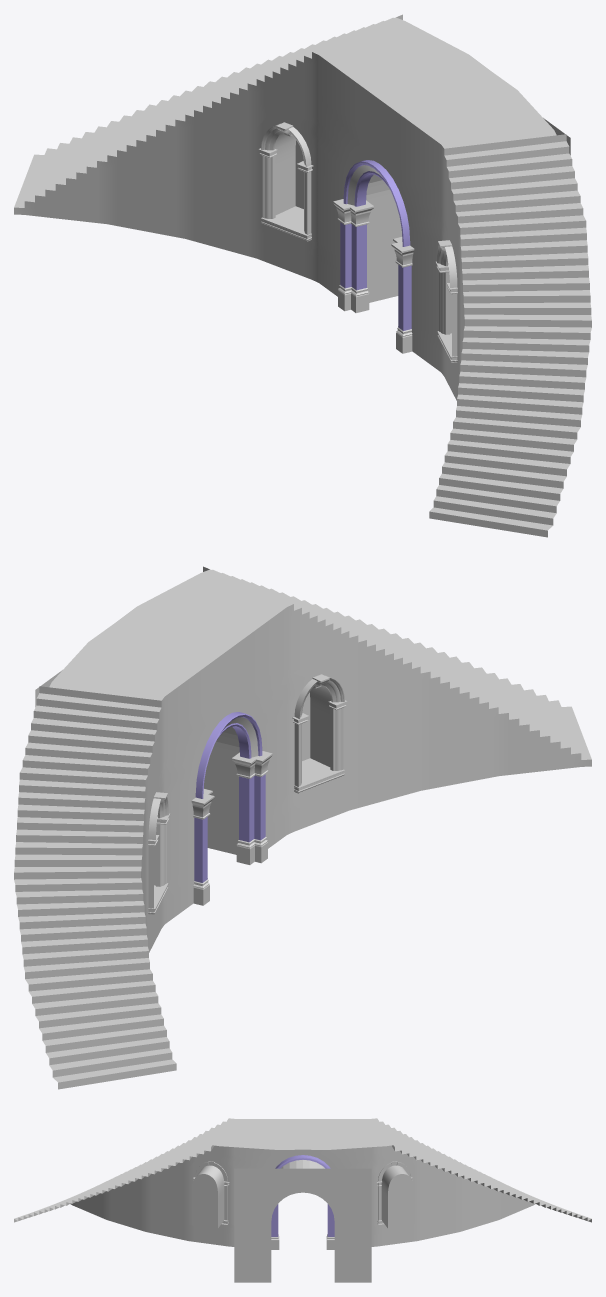
File: FR Stairs Main.fbx
3 views of the same model, one above another, from view 1: azimuth 30°, elevation 25°; view 2: azimuth 150°, elevation 25°; view 3: azimuth 270°, elevation 25° (orthographic). The views are drawn at different scales.
Visible parts, largest first — view 1: Main Staircase, Main Staircase Arch, Staircase display arch; view 2: Main Staircase, Main Staircase Arch, Staircase display arch; view 3: Main Staircase, Main Staircase Arch, Staircase display arch.
Boxes of the visible parts, x1=… form: Main Staircase: x1=14, y1=14, x2=591, y2=537; Main Staircase Arch: x1=333, y1=160, x2=414, y2=353; Staircase display arch: x1=258, y1=122, x2=457, y2=362; Main Staircase: x1=14, y1=566, x2=591, y2=1089; Main Staircase Arch: x1=191, y1=712, x2=272, y2=905; Staircase display arch: x1=148, y1=674, x2=347, y2=914; Main Staircase: x1=14, y1=1118, x2=591, y2=1282; Main Staircase Arch: x1=271, y1=1155, x2=334, y2=1249; Staircase display arch: x1=193, y1=1161, x2=412, y2=1224.
Size of the model in its own units: 1117 by 844 by 3447.
